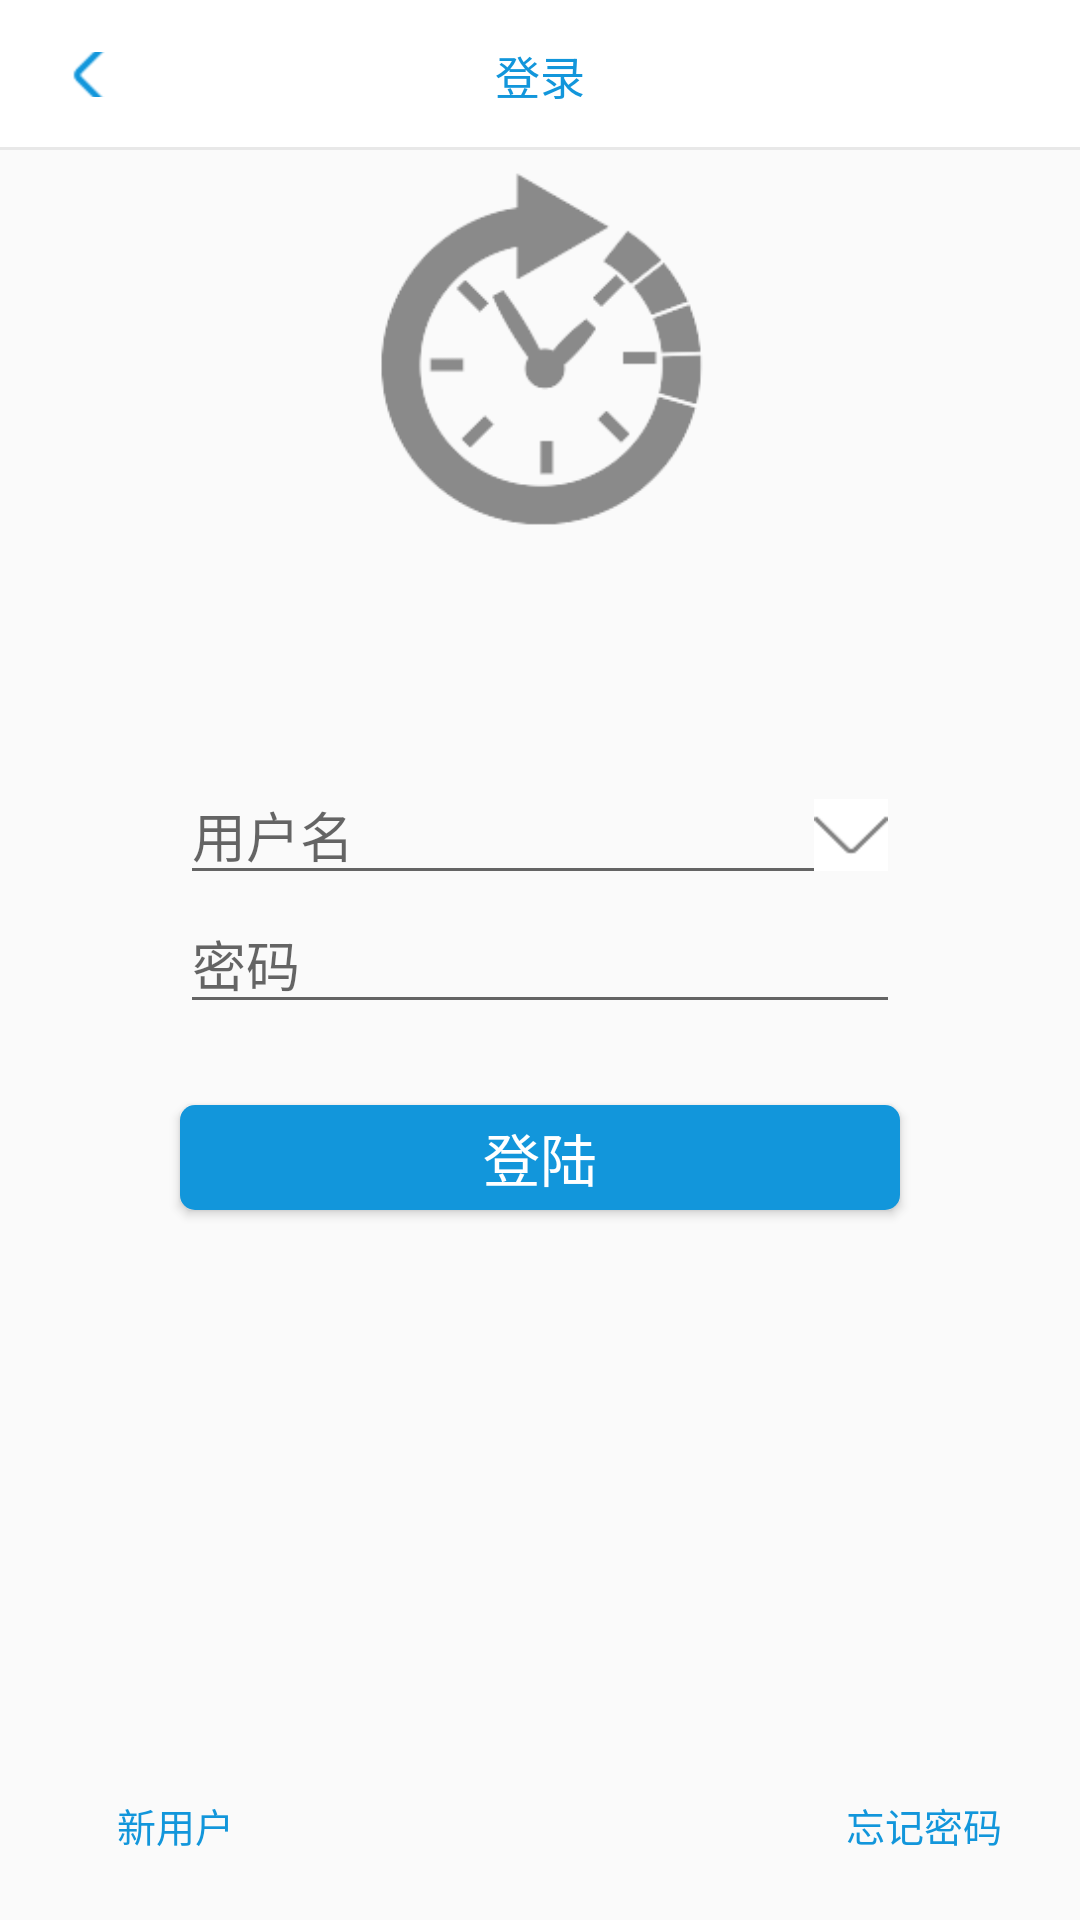

Where to tap for icons on this 1080px×1920px app screen, as (x=x, y=y):
apppicture: (x=541, y=349)
